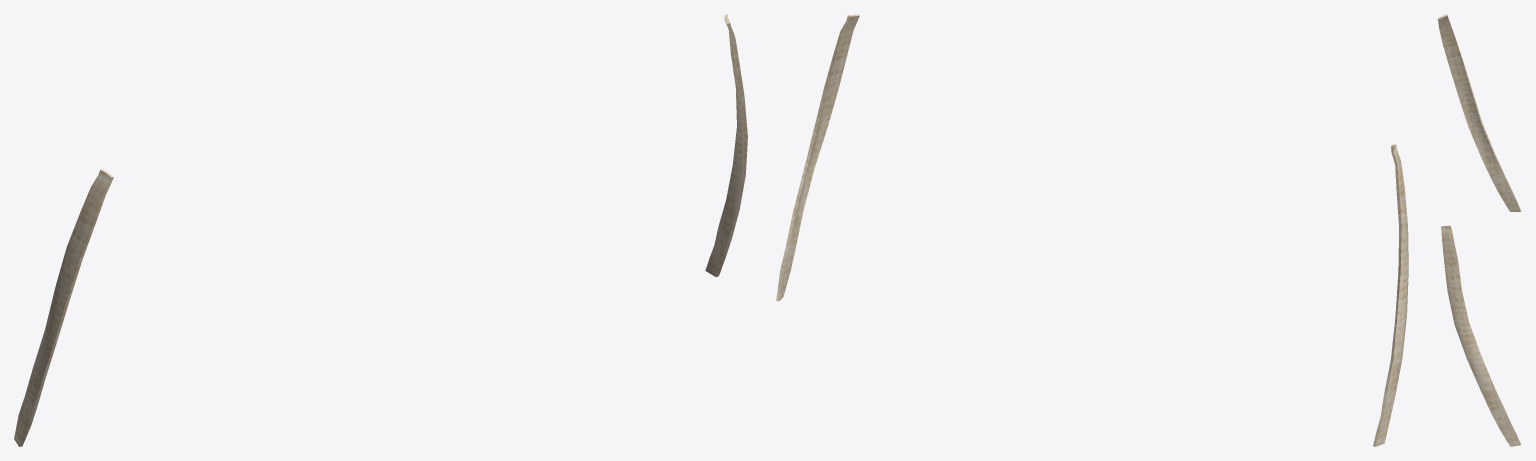
The model's file is pocket_jeted.glb.
3 views of the same model, side by side, from view 1: azimuth 30°, elevation 25°; view 2: azimuth 150°, elevation 25°; view 3: azimuth 270°, elevation 25° (orthographic). The views are drawn at different scales.
Visible parts, largest first — view 1: pocket_jeted1; view 2: pocket_jeted1; view 3: pocket_jeted1.
Part boxes in pixels (bbox=[...]): pocket_jeted1: bbox=[14, 14, 747, 446]; pocket_jeted1: bbox=[776, 14, 1408, 446]; pocket_jeted1: bbox=[1437, 14, 1521, 446].
Bounding box in the file's own units: 0.0505 × 0.0209 × 0.0076.
1 material, 1 textured.
